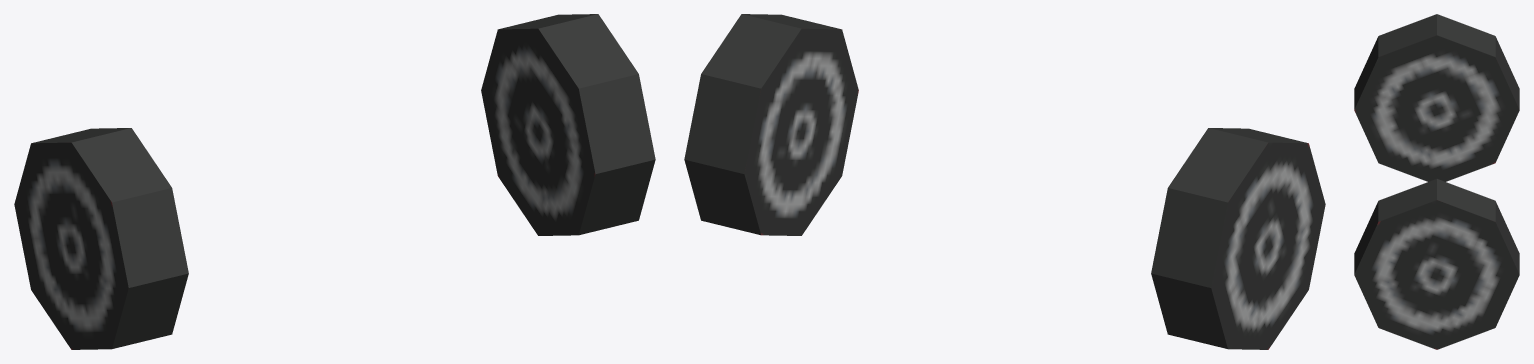
File: euro_hatch_wheels_r.obj
The picture shows the model from 3 angles, left to right: view 1: azimuth 30°, elevation 25°; view 2: azimuth 150°, elevation 25°; view 3: azimuth 270°, elevation 25°; orthographic projection. The views are drawn at different scales.
Parts seen in each view (by area): view 1: euro_hatch_wheels_r; view 2: euro_hatch_wheels_r; view 3: euro_hatch_wheels_r.
Boxes of the visible parts, left/top/right/bottom form: euro_hatch_wheels_r: left=14, top=14, right=655, bottom=349; euro_hatch_wheels_r: left=684, top=14, right=1325, bottom=349; euro_hatch_wheels_r: left=1354, top=14, right=1519, bottom=349.
Bounding box in the file's own units: 1.39 × 0.5229 × 0.5229.
1 material, 1 textured.
